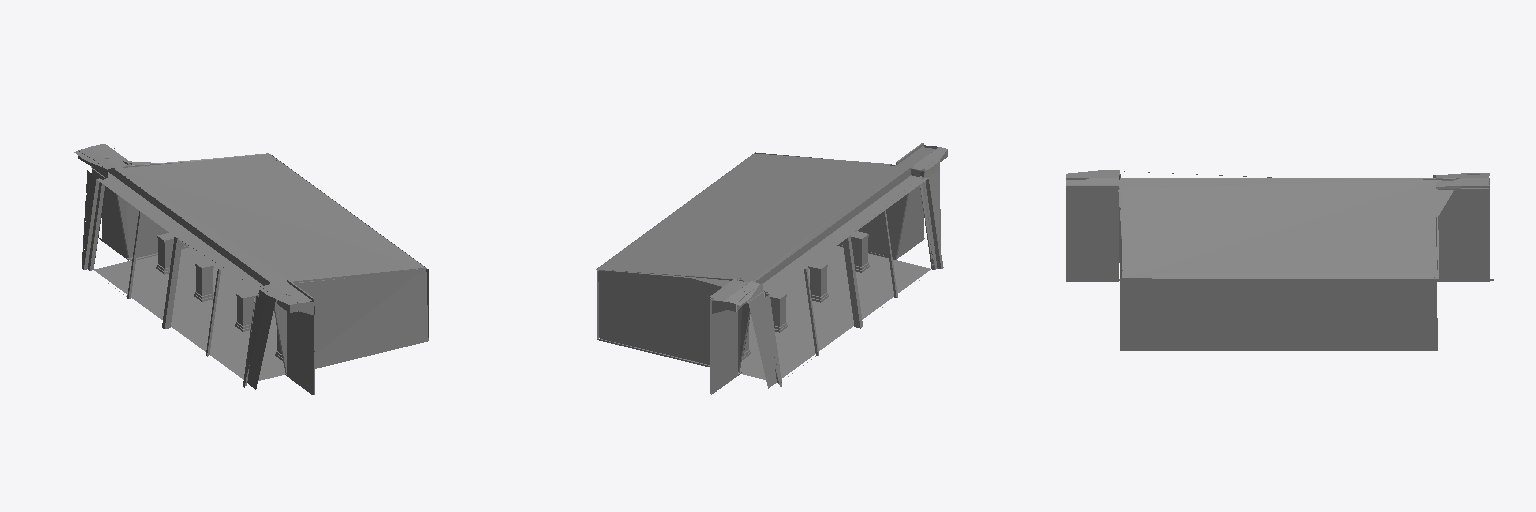
File: Museum.obj
The picture shows the model from 3 angles: view 1: azimuth 30°, elevation 25°; view 2: azimuth 150°, elevation 25°; view 3: azimuth 270°, elevation 25°; orthographic projection.
Parts seen in each view (by area): view 1: Mesh1_Prueba_Spatial1_Model, techo, pisoMuseo, paredSirve, paredSirve2, atrianglef2, aaasirve2, aaasirve; view 2: techo, Mesh1_Prueba_Spatial1_Model, pisoMuseo, paredSirve2, paredSirve, atrianglef, aaasirve2, aaasirve, atriangle; view 3: techo, Mesh1_Prueba_Spatial1_Model, paredSirve, paredSirve2, aaasirve, aaasirve2.
Part boxes in pixels (x1,y1,x2,y2): Mesh1_Prueba_Spatial1_Model: (82, 154, 428, 387); techo: (115, 153, 426, 283); pisoMuseo: (94, 247, 284, 380); paredSirve: (285, 280, 314, 394); paredSirve2: (99, 161, 129, 258); atrianglef2: (247, 286, 275, 389); aaasirve2: (74, 144, 131, 169); aaasirve: (257, 282, 312, 304); techo: (596, 153, 893, 286); Mesh1_Prueba_Spatial1_Model: (597, 152, 943, 386); pisoMuseo: (609, 246, 930, 379); paredSirve2: (710, 279, 738, 394); paredSirve: (896, 143, 924, 259); atrianglef: (747, 283, 776, 388); aaasirve2: (710, 278, 759, 305); aaasirve: (898, 145, 947, 169); atriangle: (759, 295, 781, 381); techo: (1118, 180, 1453, 278); Mesh1_Prueba_Spatial1_Model: (1119, 171, 1458, 350); paredSirve: (1066, 185, 1119, 281); paredSirve2: (1437, 185, 1493, 281); aaasirve: (1066, 170, 1119, 184); aaasirve2: (1436, 173, 1489, 188).
Bounding box in the file's own units: 12.2 × 6.18 × 24.2.